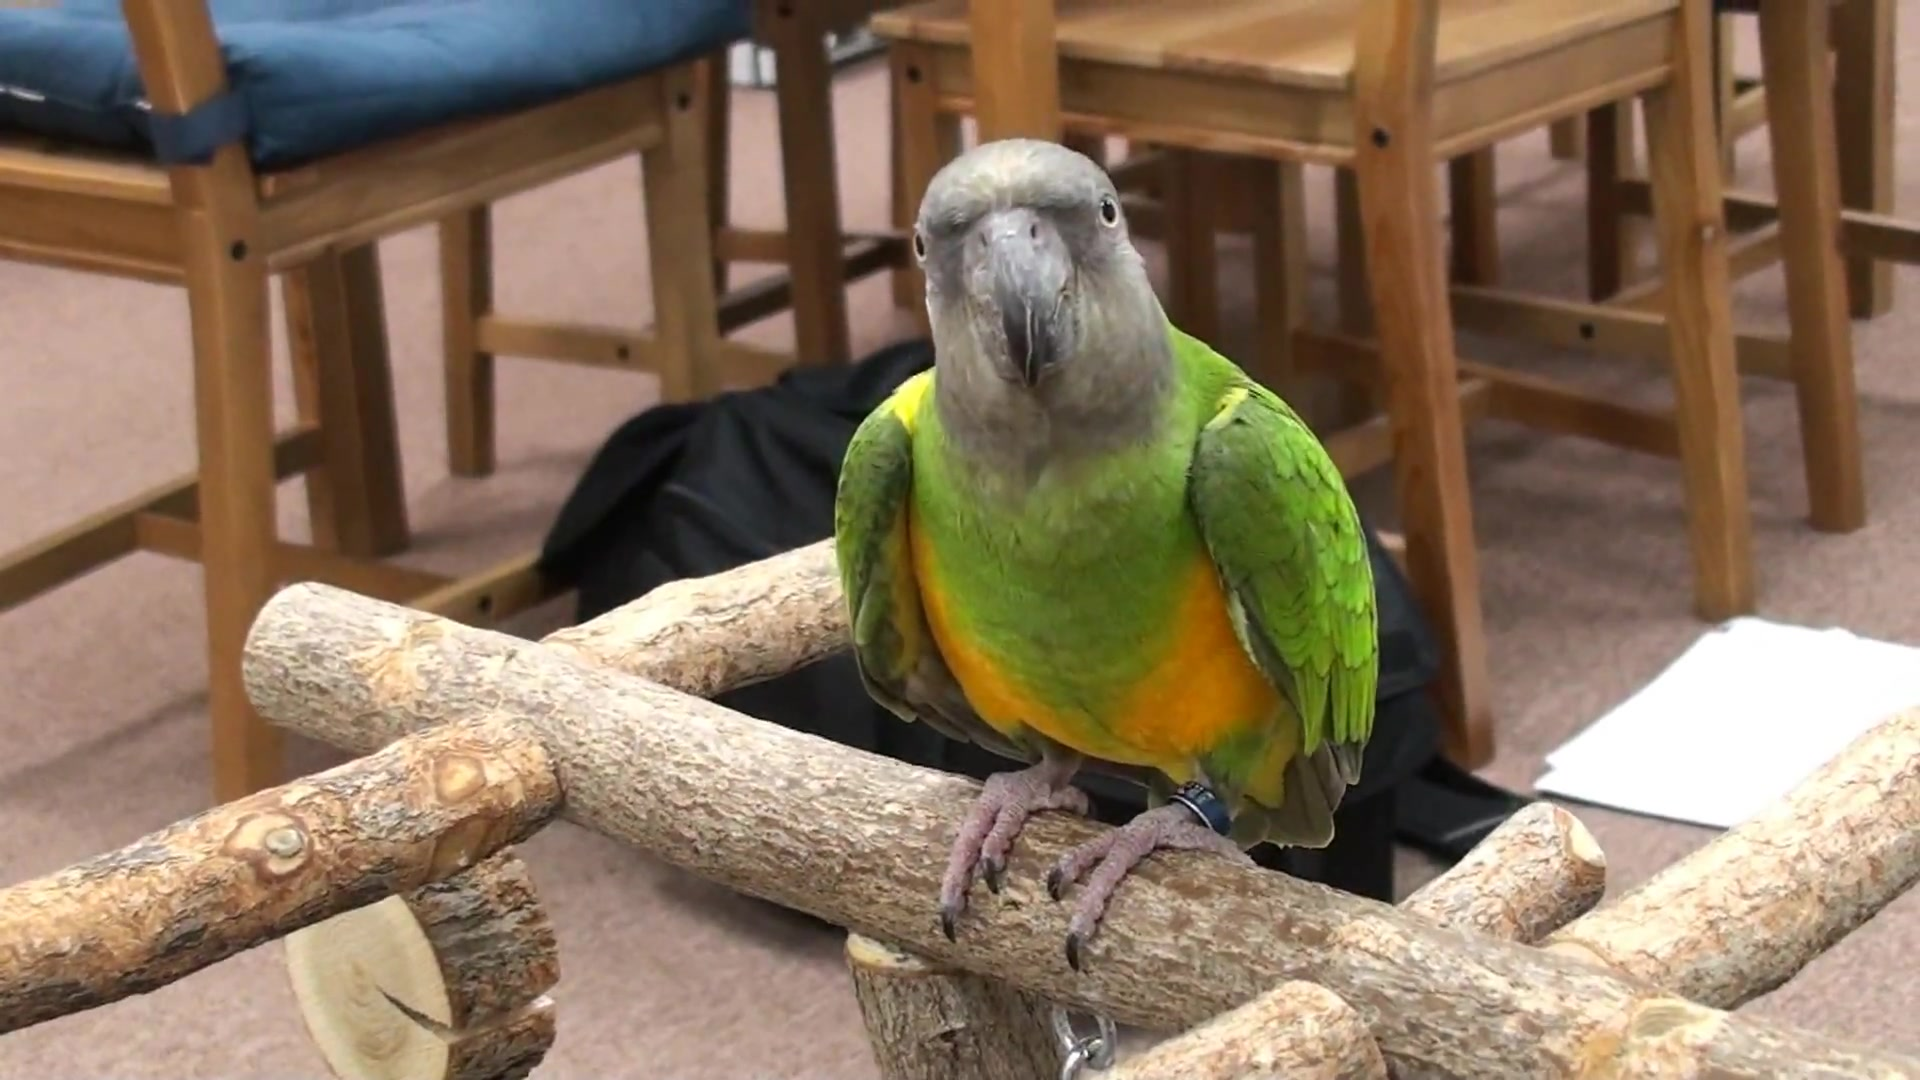bird: (833, 138, 1382, 975)
